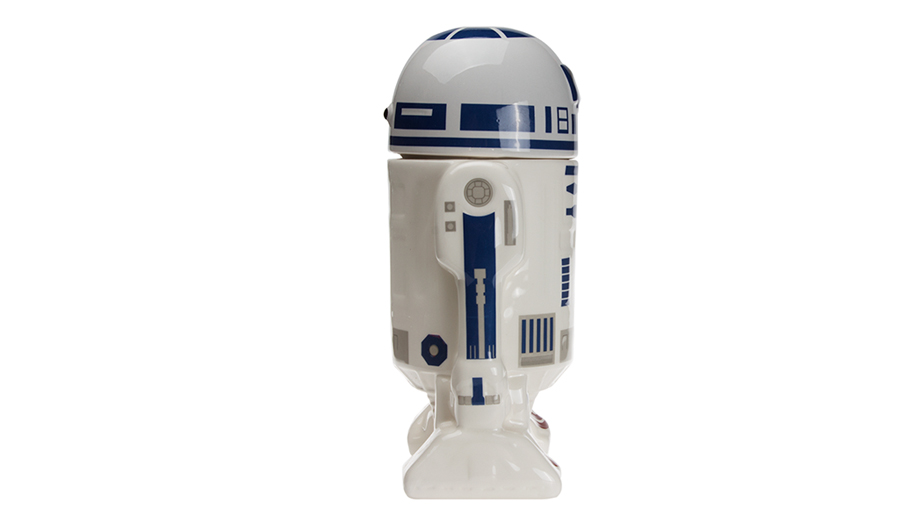r2d2: (383, 24, 580, 498)
